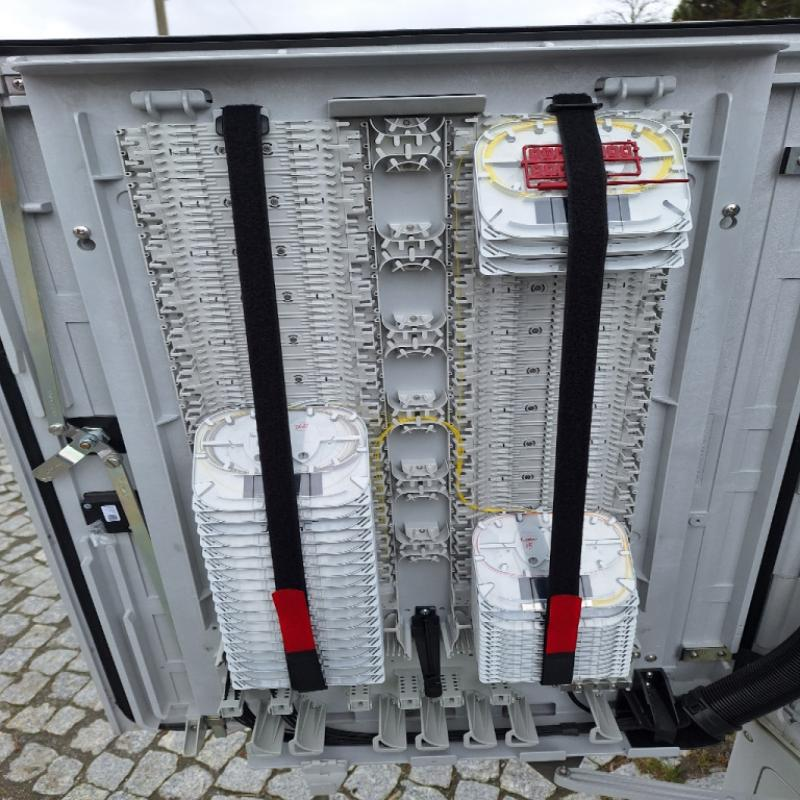NT-Gehause: (0, 22, 800, 796)
Spleiskassetten: (112, 113, 398, 695), (444, 106, 700, 684)
